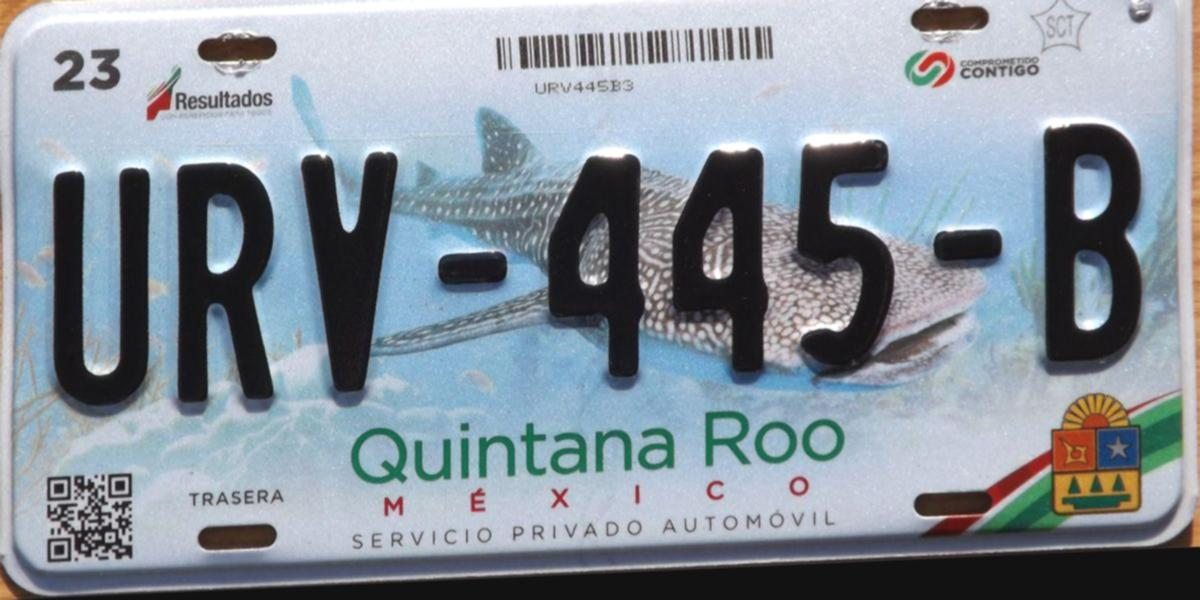License_Plate: (25, 0, 1176, 567)
